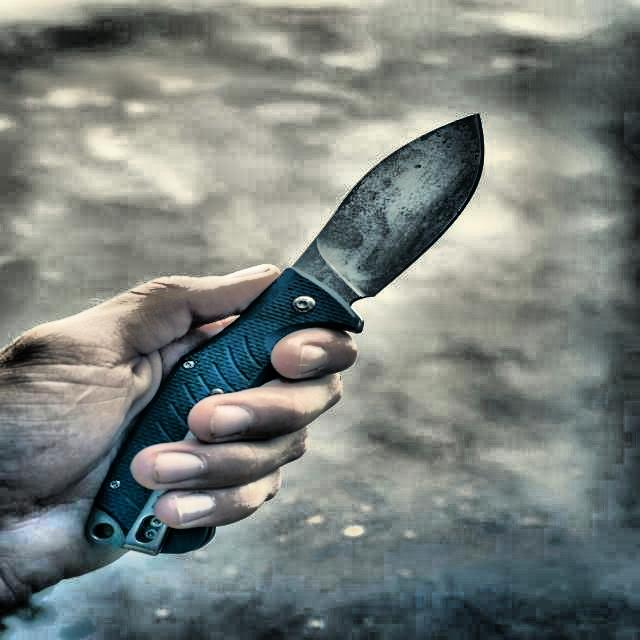knife: (72, 106, 494, 565)
